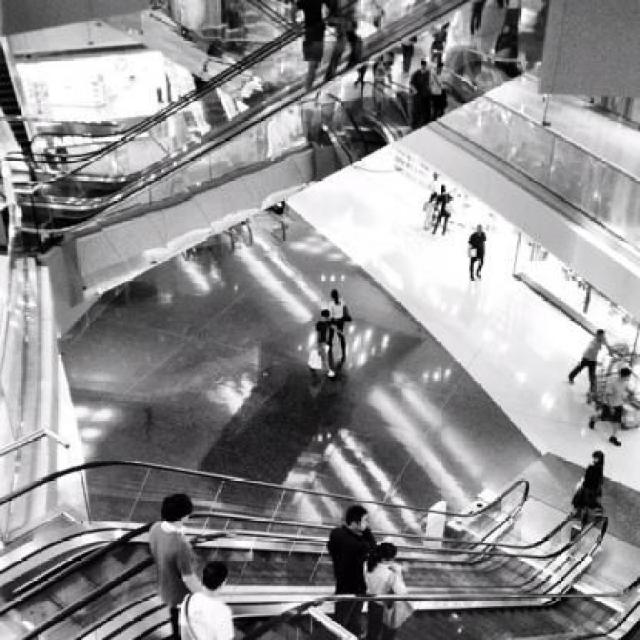Person: (146, 495, 202, 637), (338, 507, 393, 624), (179, 558, 235, 639), (364, 544, 404, 639), (290, 0, 328, 89), (326, 0, 365, 85), (588, 362, 621, 448), (569, 329, 614, 391), (572, 452, 602, 530), (317, 308, 341, 374), (328, 285, 349, 360), (428, 185, 452, 238), (432, 22, 448, 78), (468, 224, 484, 278), (410, 61, 432, 98), (401, 32, 417, 72), (420, 189, 435, 229), (375, 58, 387, 102), (428, 173, 440, 190)
